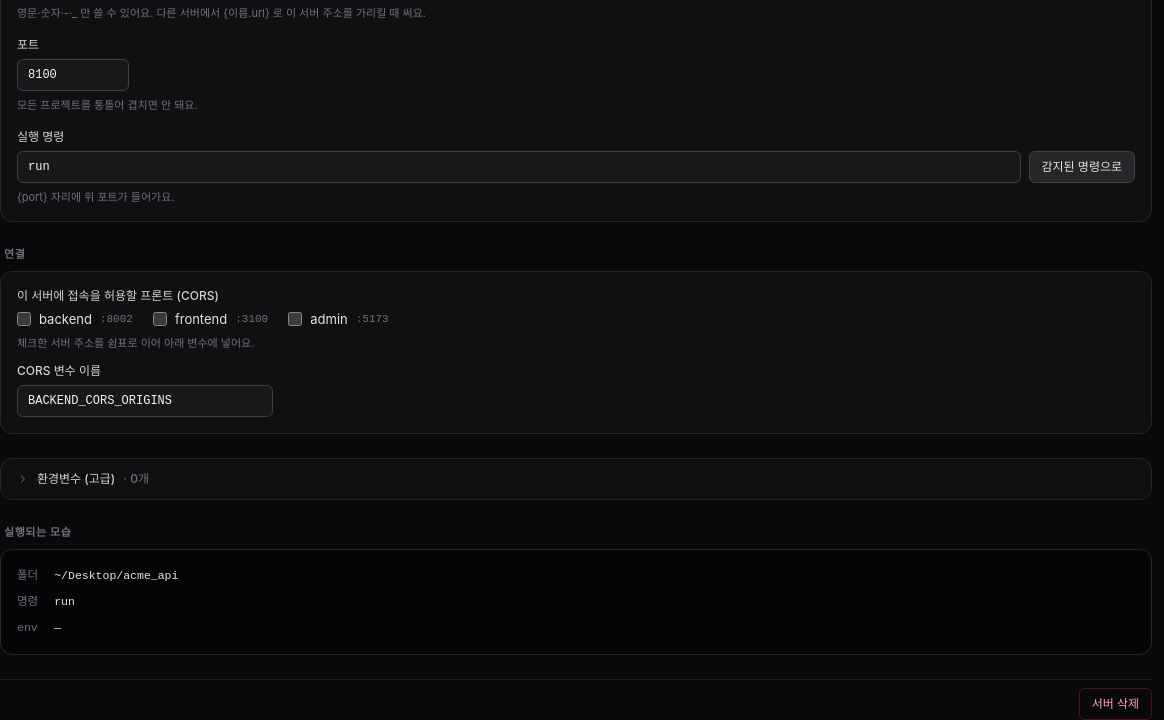
Test case: ServiceEditor — 연결과 미리보기 › CORS 체크박스는 체크한 서버 주소를 쉼표로 이어 쓴다
(page scrolled)
expect the field labelled "CORS 변수 이름" holds "BACKEND_CORS_ORIGINS": met, box left=17, top=385, right=273, bottom=417
Step 1. Click the checkbox labelled "frontend :3100" → [160, 319], box left=153, top=312, right=167, bottom=326
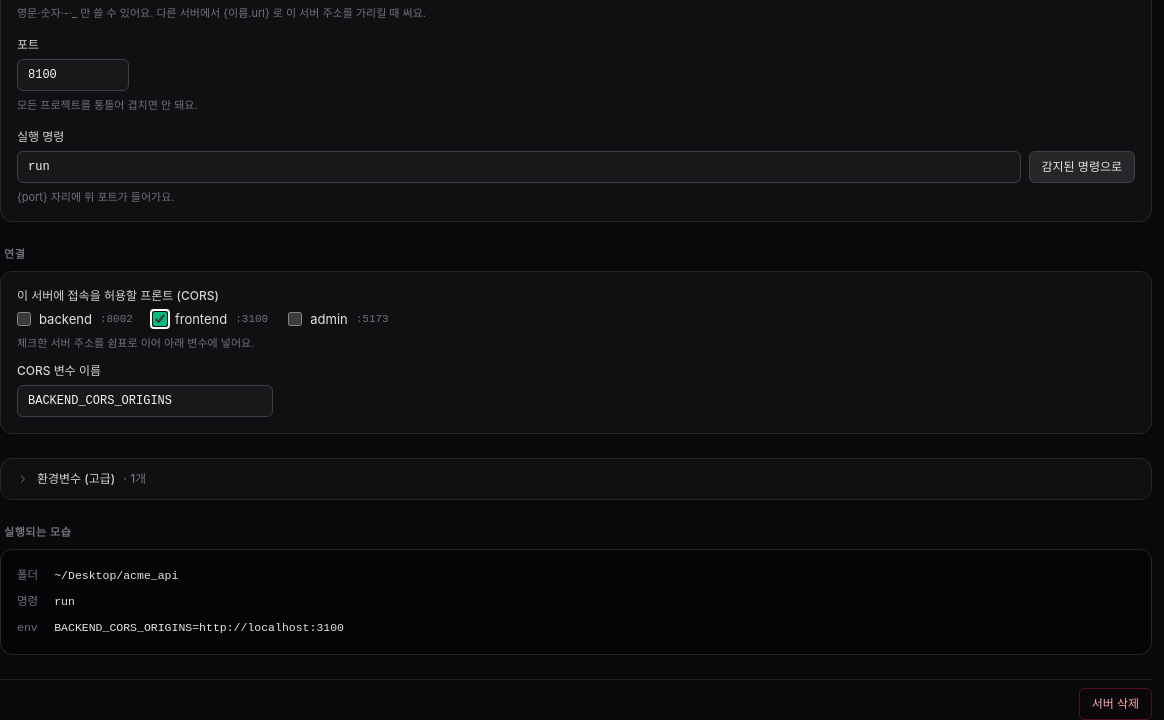
Step 2. Click the checkbox labelled "admin :5173" → [295, 319], box left=288, top=312, right=302, bottom=326
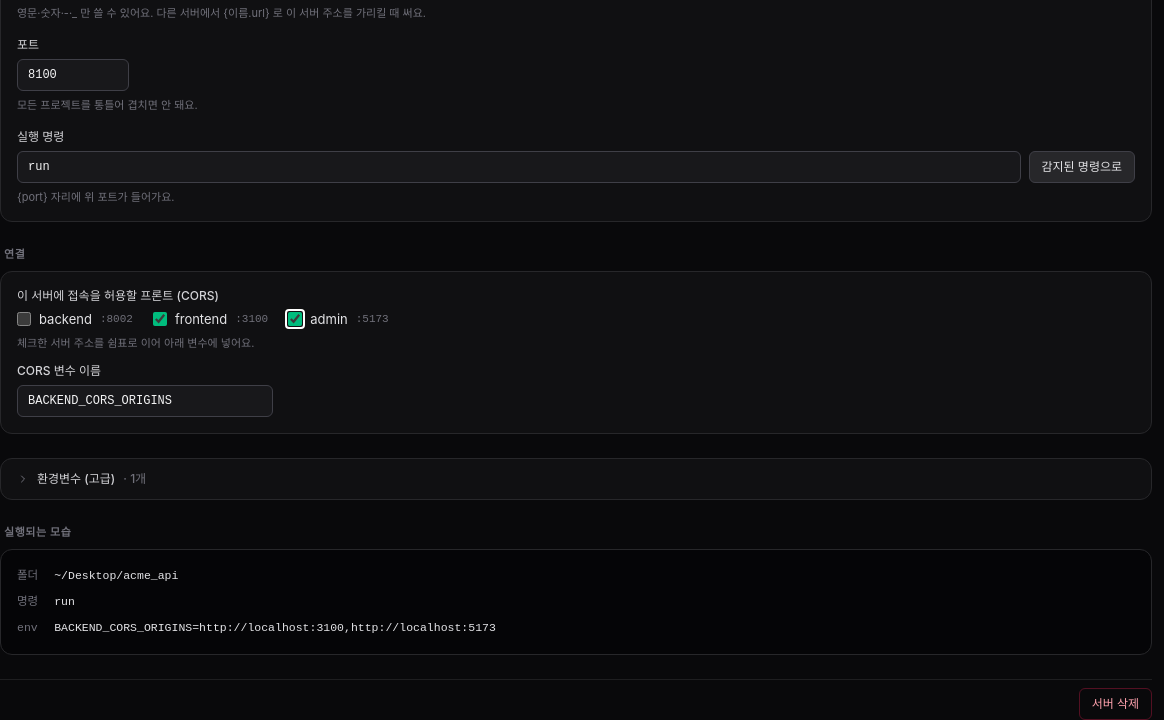
expect the text "BACKEND_CORS_ORIGINS=http://localhost:3100,http://localhost:5173" is shown: met, box left=54, top=620, right=496, bottom=634
Step 3. Click the checkbox labelled "frontend :3100" → [160, 319], box left=153, top=312, right=167, bottom=326
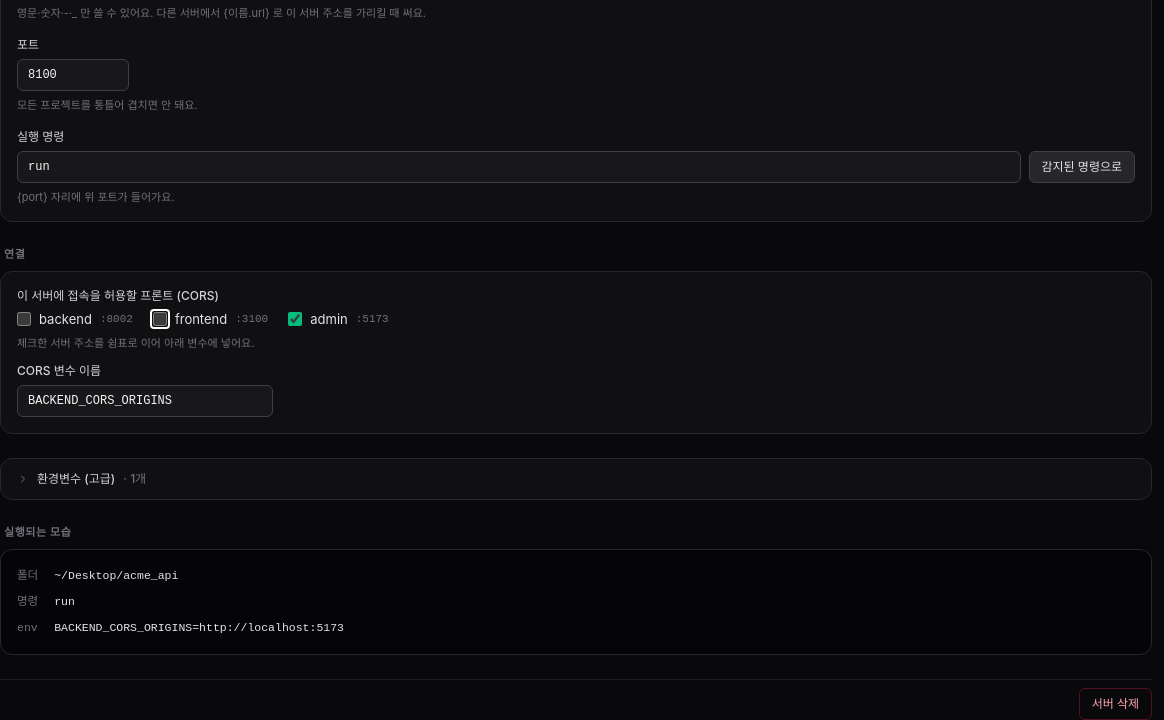
expect the text "BACKEND_CORS_ORIGINS=http://localhost:5173" is shown: met, box left=54, top=620, right=344, bottom=634
